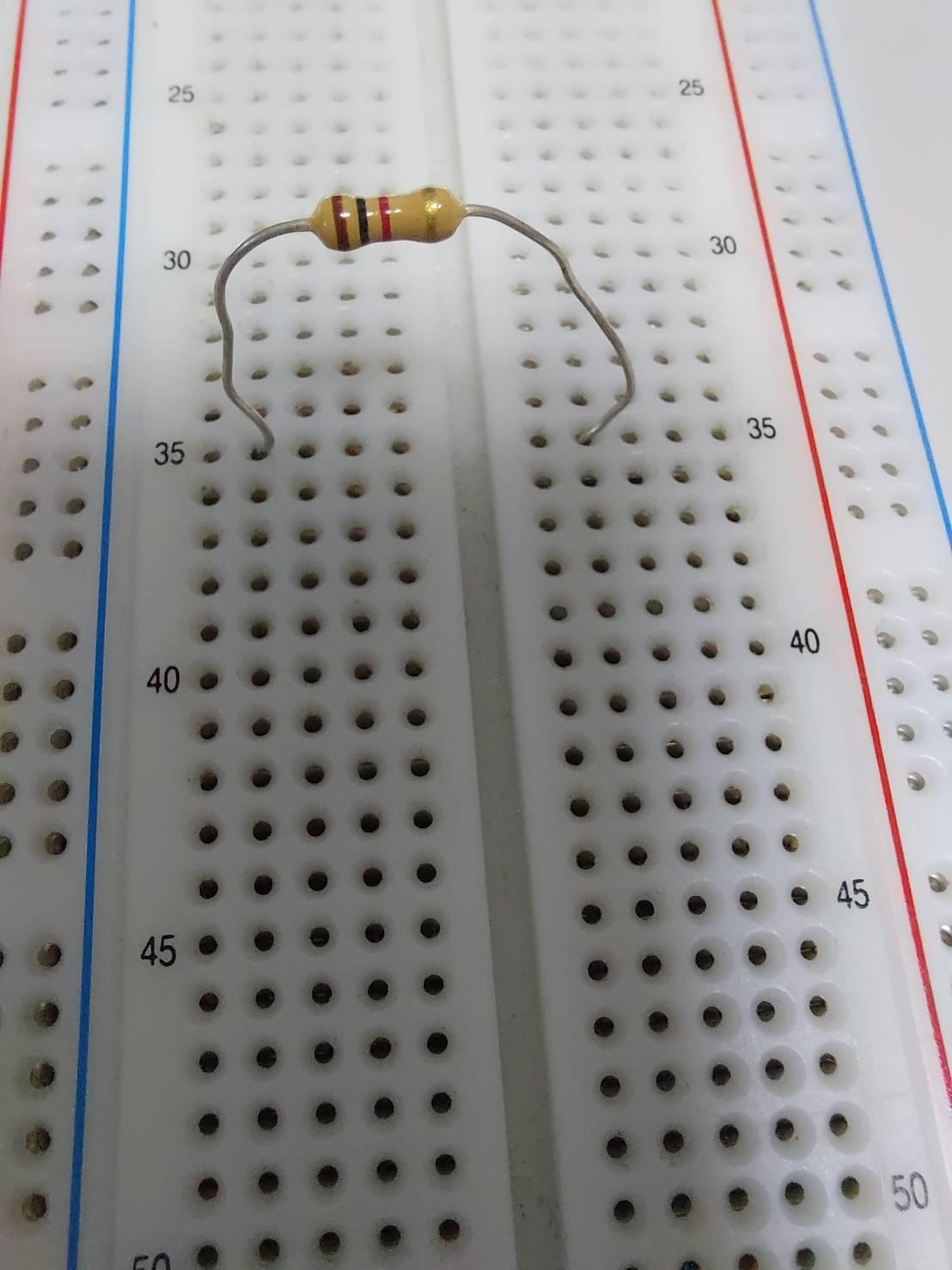resistor: (309, 187, 471, 247)
